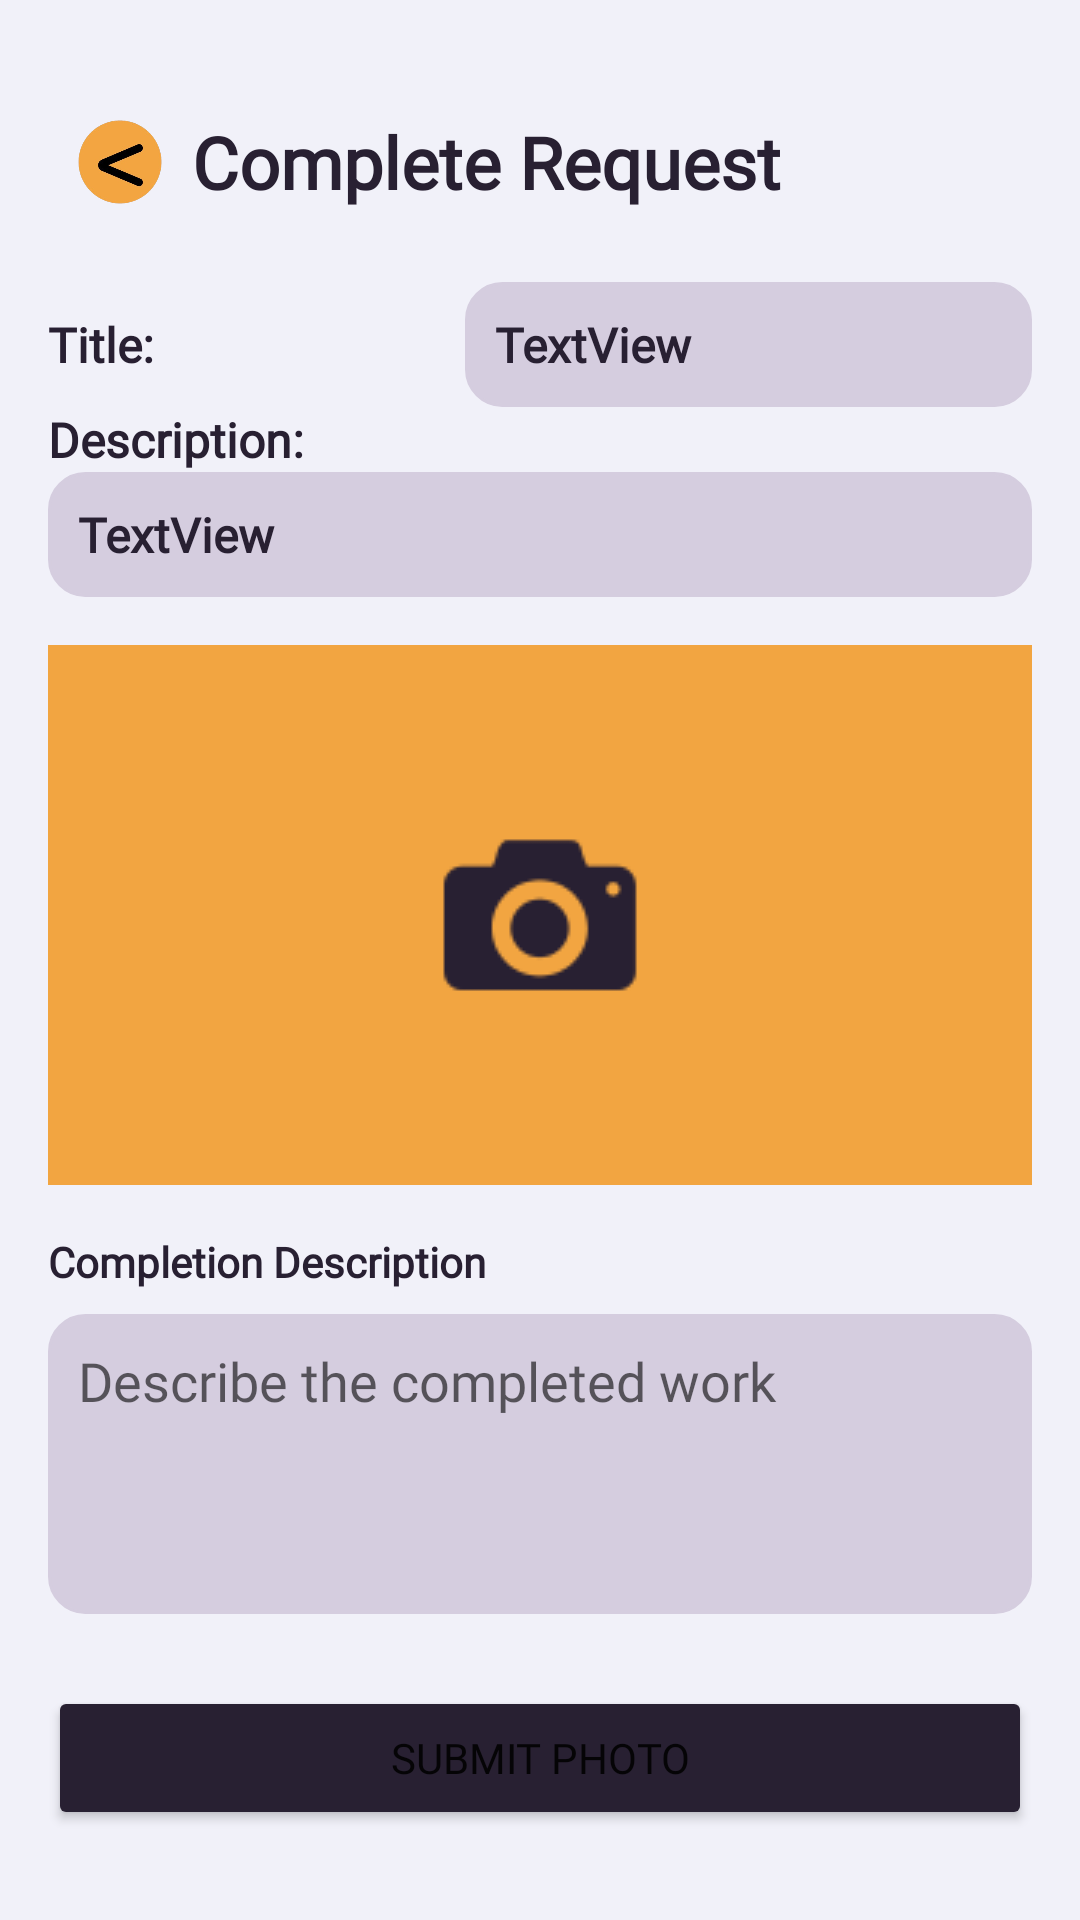

Icons on this 1080x1920 Android screen, each with the point to tap as point (x, y):
Back Button: point (120, 162)
